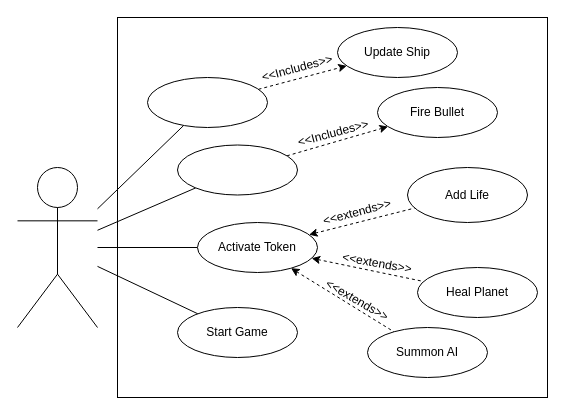
This 565x415 diagram has some shape labels left out. The shapes that lost their labels are listed below. From the top down, each one's centre as x and y in pixels, then its label:
the point at 207,102: Move Spaceship
the point at 237,169: Shoot
the point at 57,247: Player
